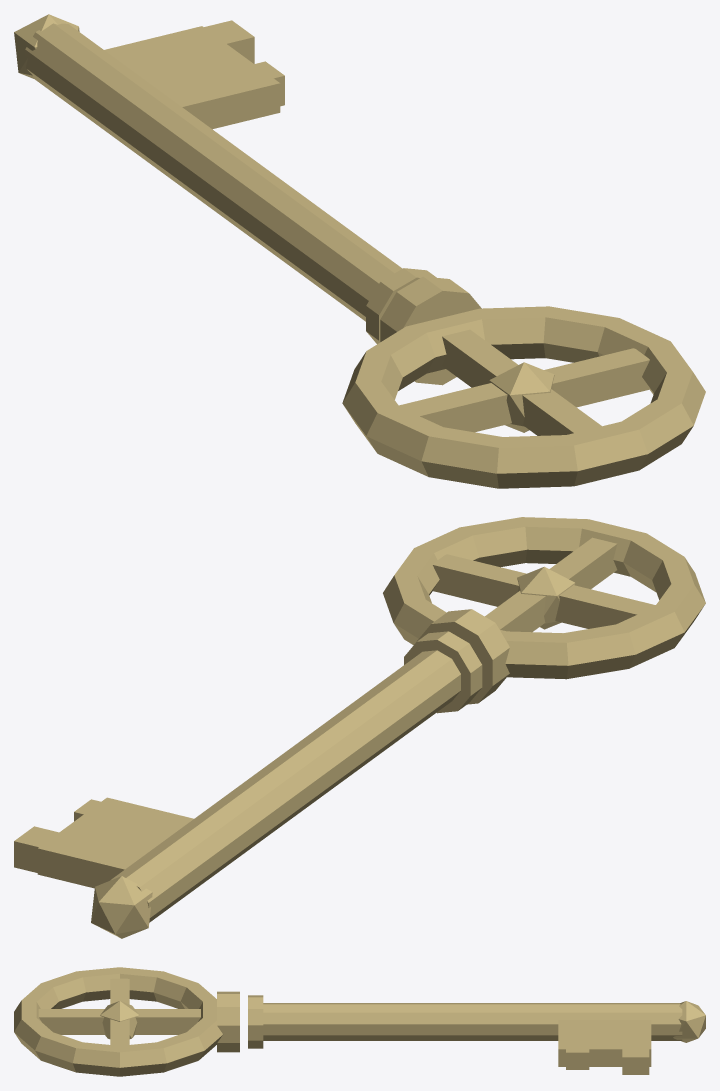
The model's file is key.glb.
The picture shows the model from 3 angles, top to bottom: view 1: azimuth 30°, elevation 25°; view 2: azimuth 150°, elevation 25°; view 3: azimuth 270°, elevation 25°; orthographic projection. The views are drawn at different scales.
Visible parts, largest first — view 1: Key; view 2: Key; view 3: Key.
Boxes of the visible parts, box(x1,y1,x2,y2) form: Key: box(14, 14, 705, 488); Key: box(14, 517, 705, 938); Key: box(14, 967, 705, 1076).
Bounding box in the file's own units: 0.056 × 0.016 × 0.1784.
